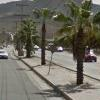Palm tree: (61, 4, 100, 99)
